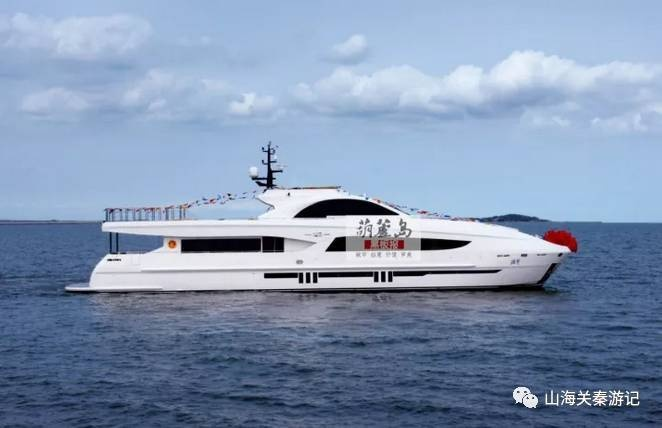yacht: (63, 158, 569, 292)
